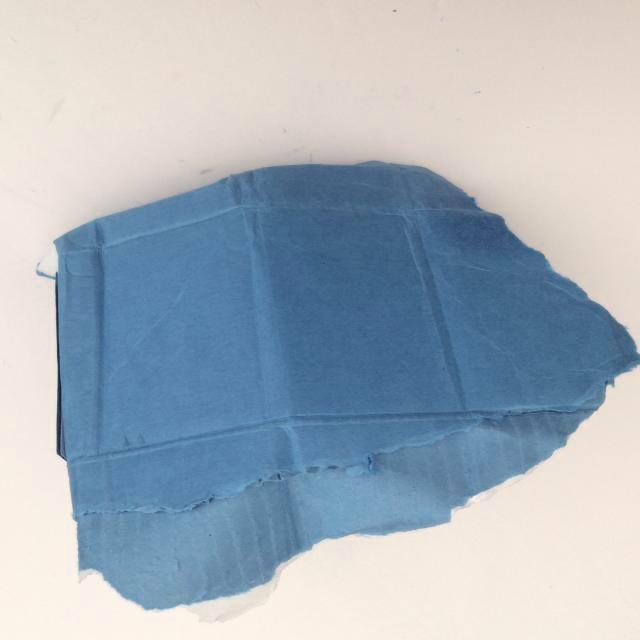cardboard: (22, 147, 640, 617)
